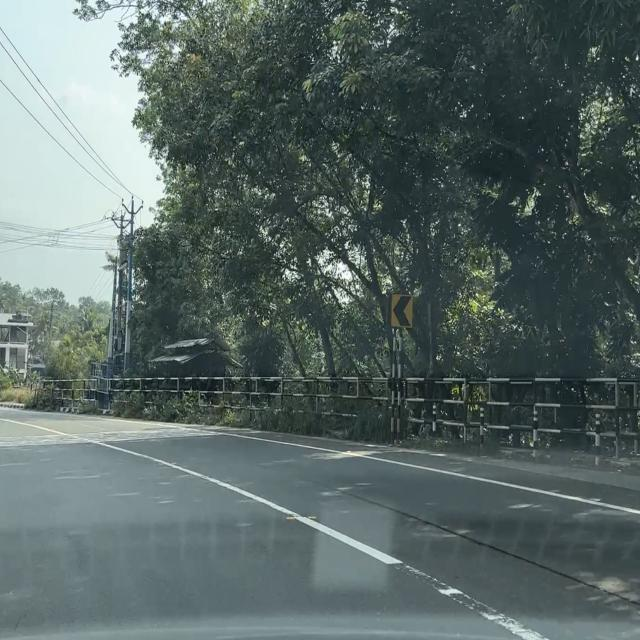TURN_LEFT: (391, 293, 414, 329)
